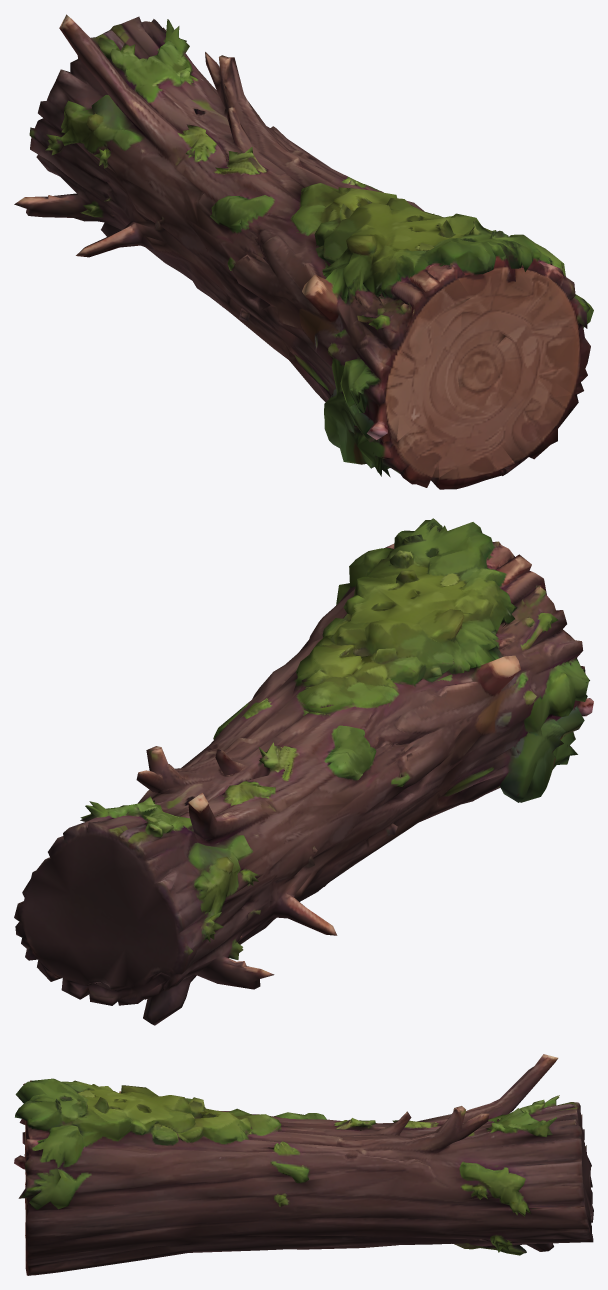
File: kutuk.glb
The picture shows the model from 3 angles, top to bottom: view 1: azimuth 30°, elevation 25°; view 2: azimuth 150°, elevation 25°; view 3: azimuth 270°, elevation 25°; orthographic projection. The views are drawn at different scales.
Visible parts, largest first — view 1: kutuk; view 2: kutuk; view 3: kutuk.
Boxes of the visible parts, x1,y1,x2,y2 form: kutuk: (14,14,593,489); kutuk: (14,518,593,1025); kutuk: (14,1054,593,1275).
Size of the model in its own units: 1.18 by 1.04 by 3.
Materials: 1 (1 with a texture image).
